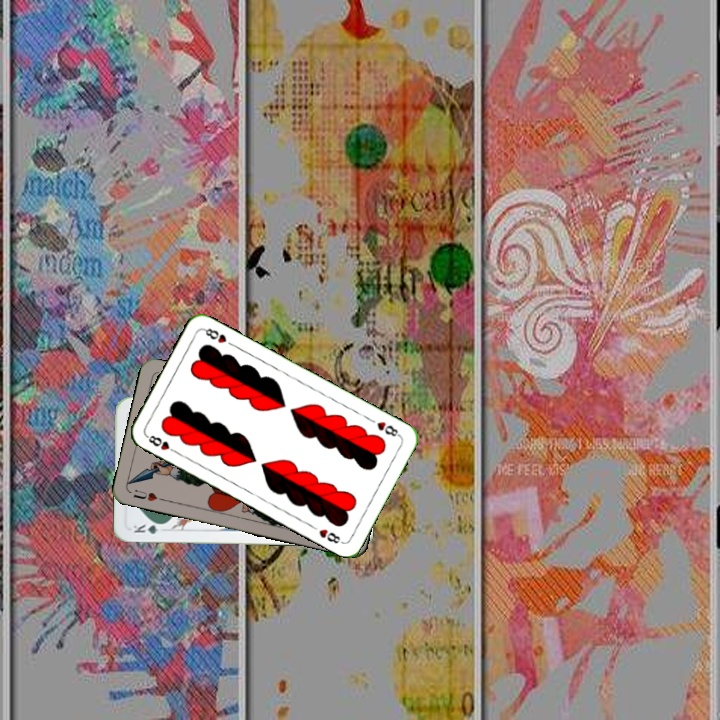GK: (129, 520, 168, 536)
H8: (142, 431, 180, 456), (373, 417, 403, 440)
HU: (129, 485, 167, 504)
